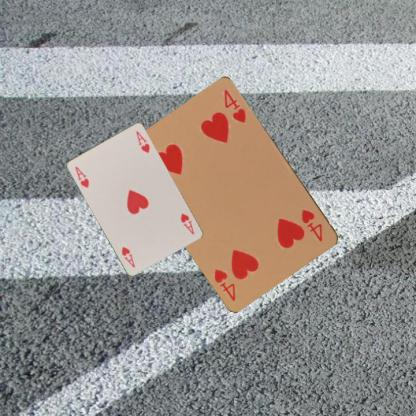4h: (298, 206, 324, 244)
Ah: (73, 163, 91, 189), (178, 211, 196, 236)
